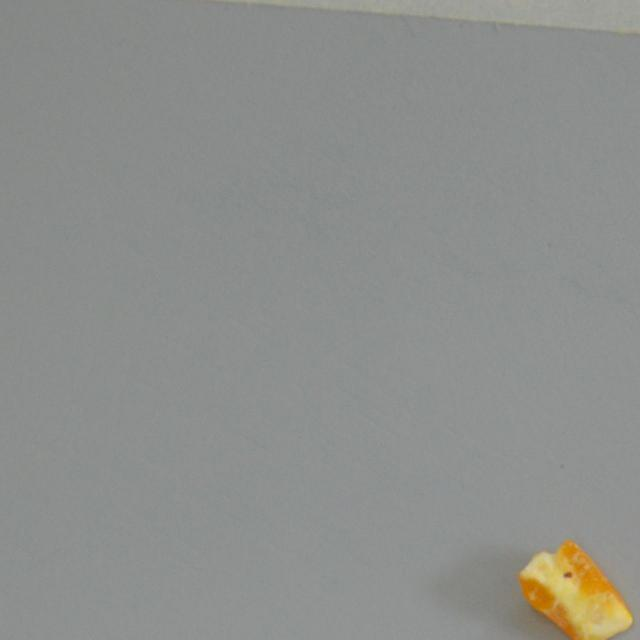punto_negro: (518, 540, 634, 640)
